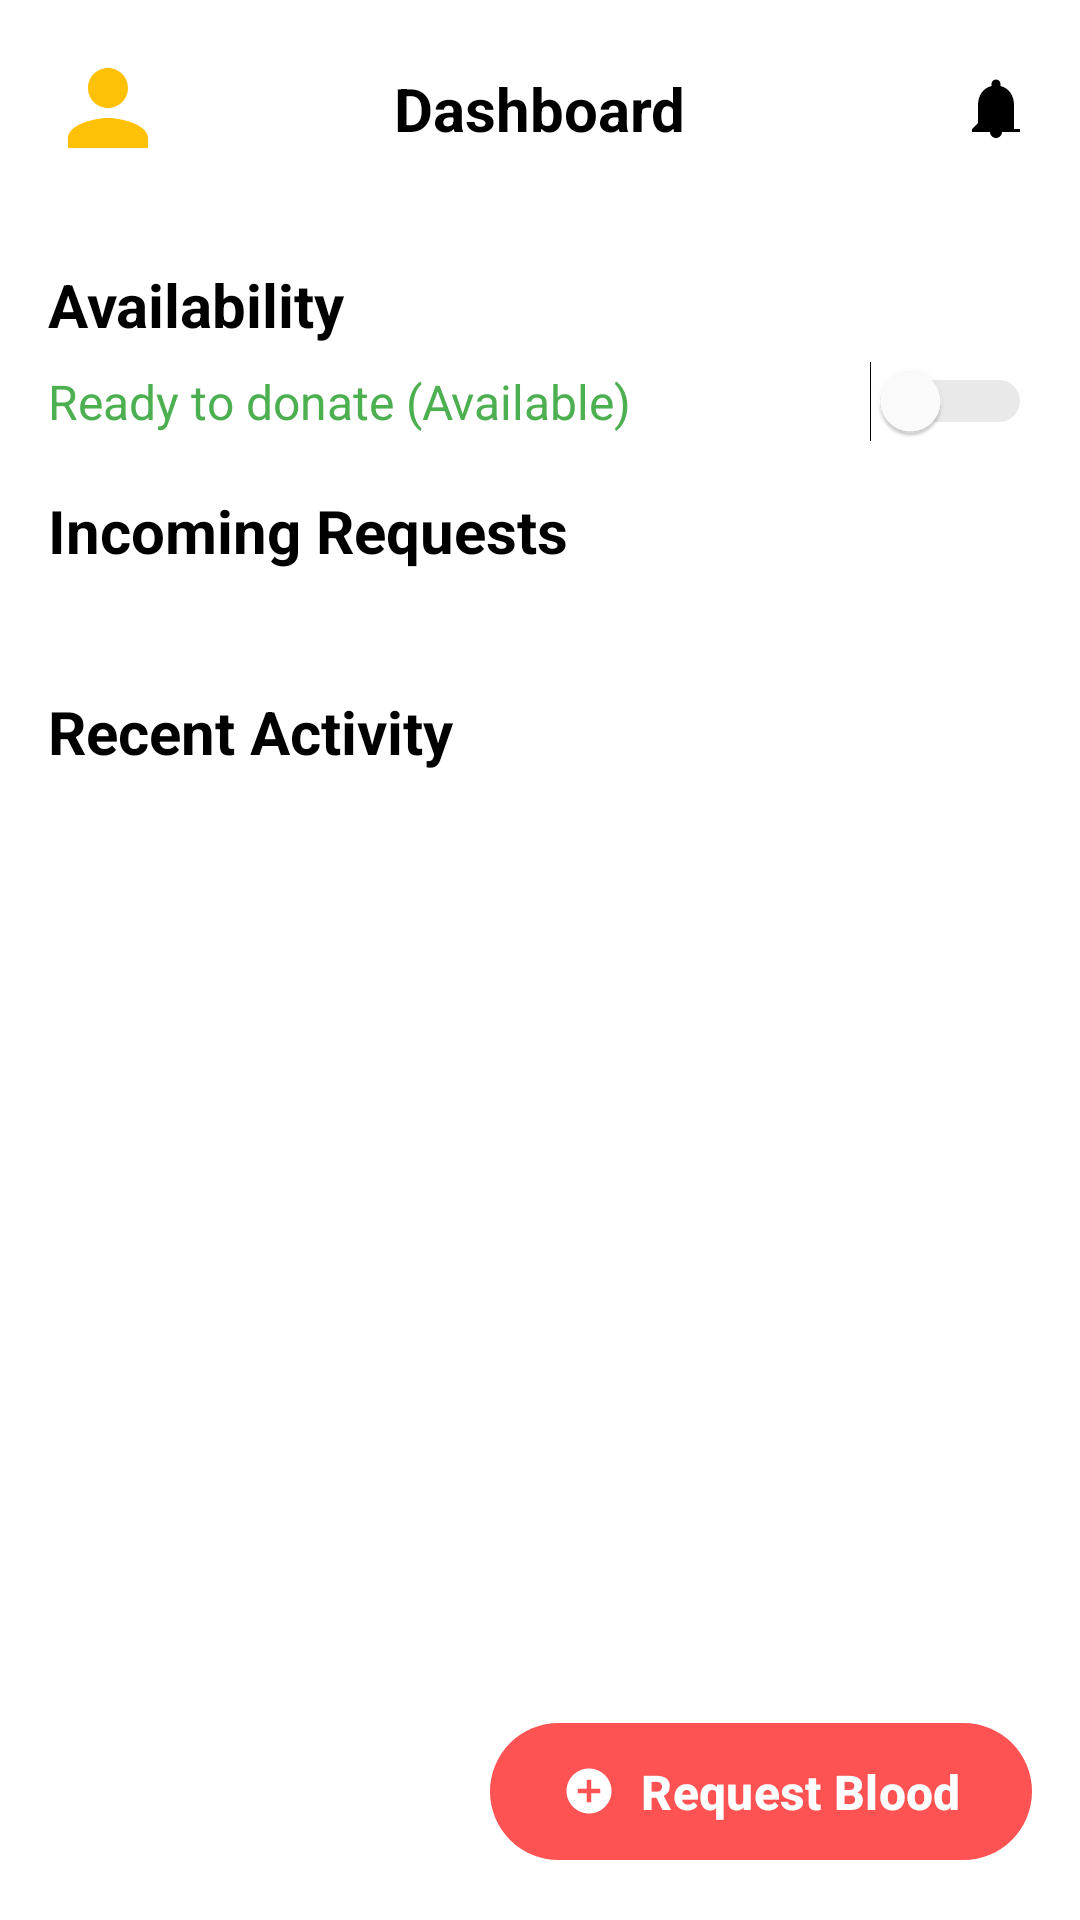

Named icons in this screenshot (1080w x 1920h) and their bounding boxes, box=[x1, y1, x2, y2]:
notification bell: box=[972, 79, 1020, 138]
